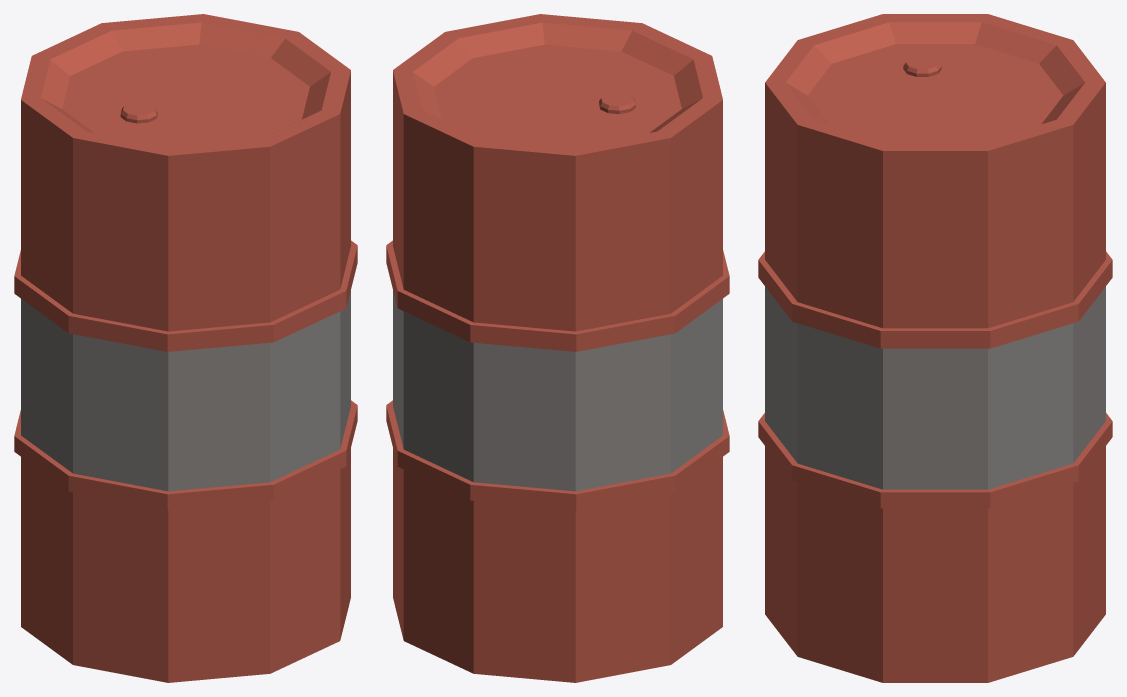
File: MetalBarrel.fbx
The picture shows the model from 3 angles, left to right: view 1: azimuth 30°, elevation 25°; view 2: azimuth 150°, elevation 25°; view 3: azimuth 270°, elevation 25°; orthographic projection.
Parts seen in each view (by area): view 1: MetalBarrel; view 2: MetalBarrel; view 3: MetalBarrel.
Part boxes in pixels (bbox=[...]): MetalBarrel: bbox=[14, 14, 357, 682]; MetalBarrel: bbox=[386, 14, 729, 682]; MetalBarrel: bbox=[758, 14, 1112, 682].
Size of the model in its own units: 46.78 by 81.49 by 49.19.
